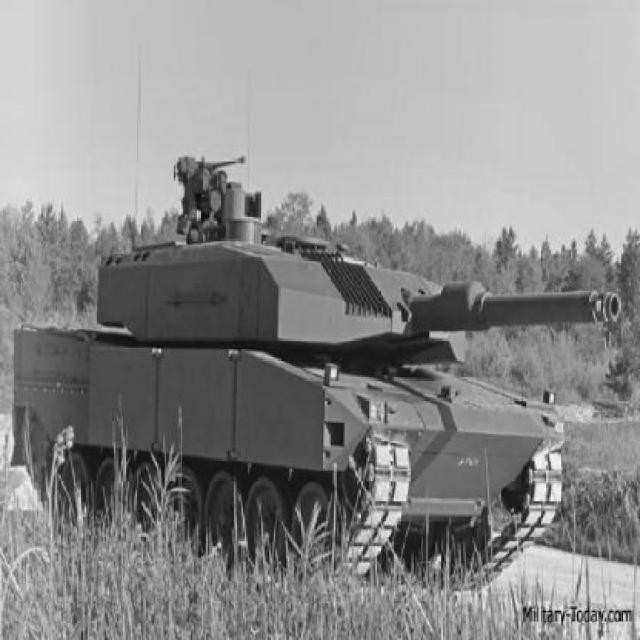Tank: (9, 155, 623, 593)
